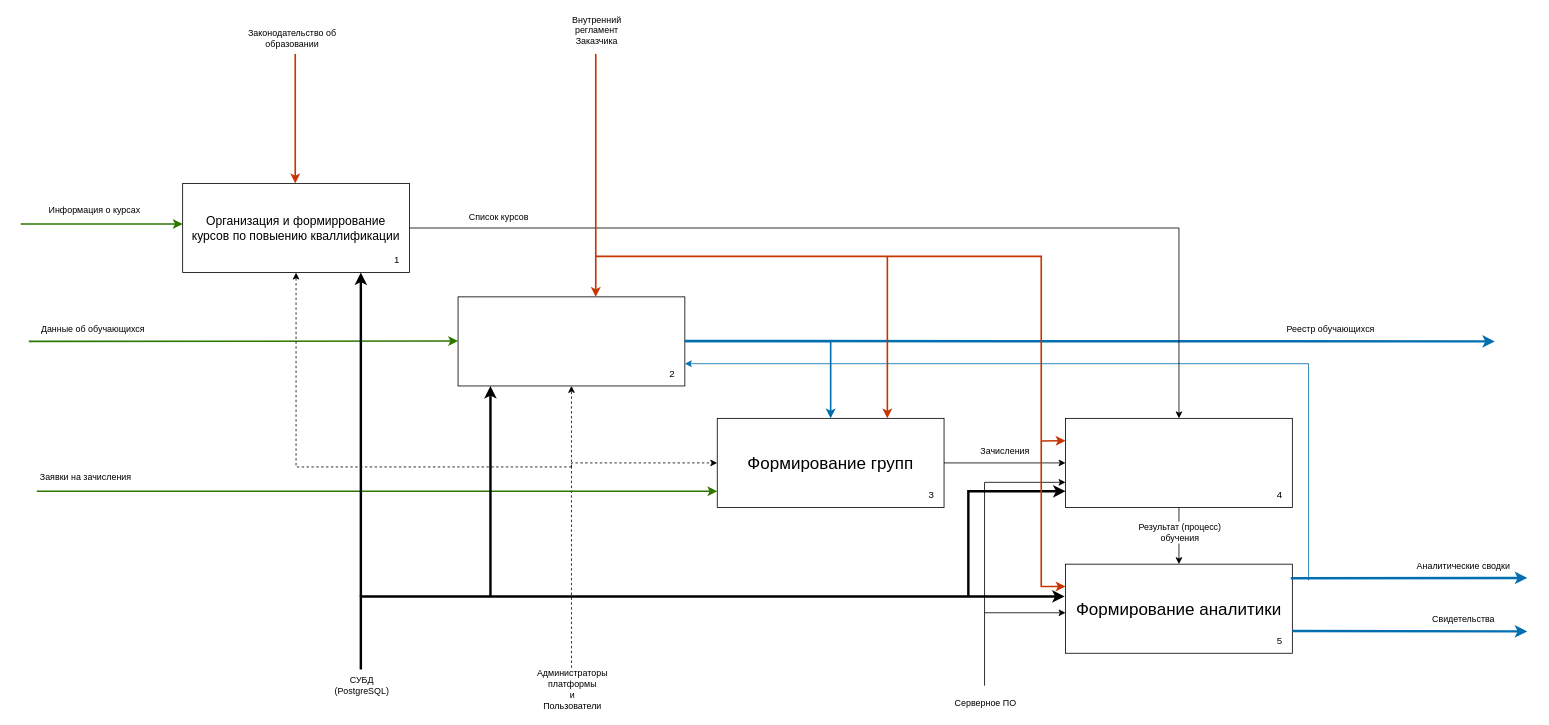
The diagram is 1549 pixels wide and 725 high, and some of its shapes have lost their labels. Here are the shapes that lost their labels. From the top down, the box of each, then its label:
(457, 296, 685, 386): Регистрация обучающихся (хранение данных и аналитики)
(1065, 418, 1292, 507): Зачисления на курсы
